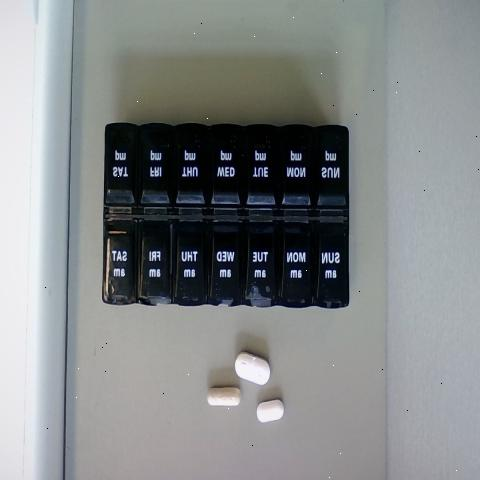FRI-am: (142, 218, 174, 304)
FRI-pm: (134, 122, 172, 210)
MON-am: (280, 225, 314, 306)
MON-pm: (279, 126, 313, 209)
Pill: (225, 347, 280, 385), (196, 379, 243, 416), (246, 393, 286, 436)
PillBox: (83, 90, 363, 326)
SAT-am: (104, 224, 136, 307)
SAT-pm: (106, 123, 135, 213)
SUN-am: (315, 222, 348, 309)
SUN-pm: (313, 123, 347, 208)
THU-am: (176, 223, 208, 303)
THU-pm: (169, 121, 208, 211)
TUE-am: (245, 223, 278, 309)
TUE-pm: (244, 127, 279, 213)
WED-am: (209, 218, 243, 305)
WED-pm: (206, 123, 241, 206)
